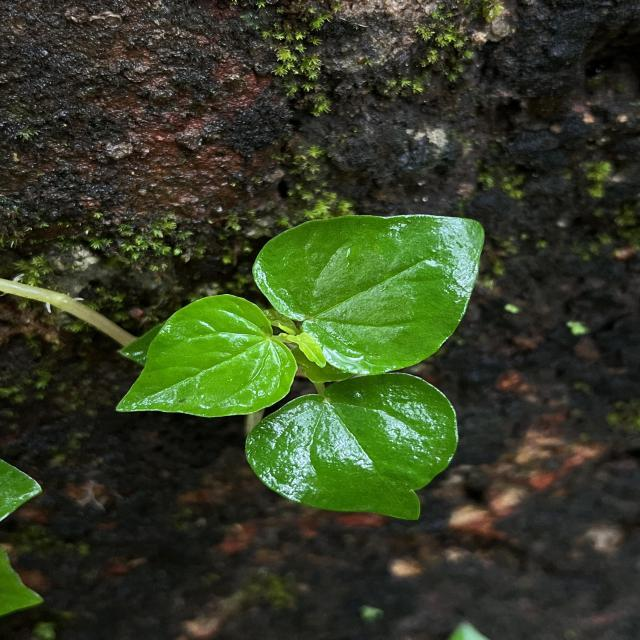Peperomia pellucida: (250, 212, 486, 375), (243, 371, 462, 523), (112, 292, 300, 419)
